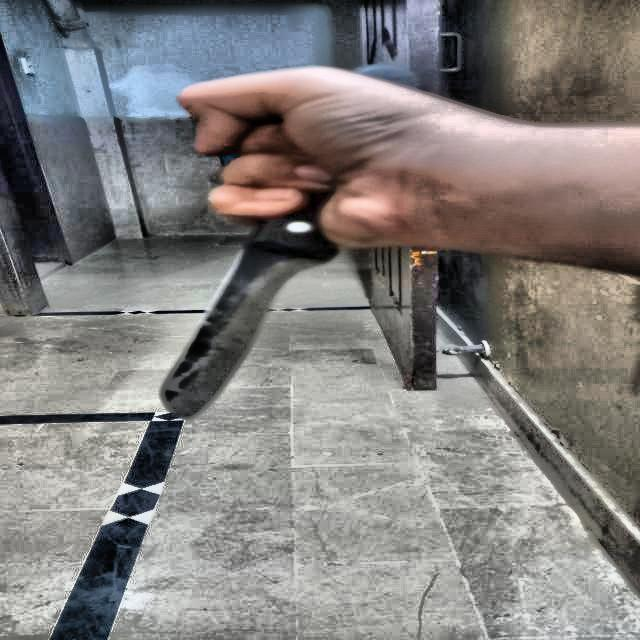knife: (162, 68, 418, 420)
